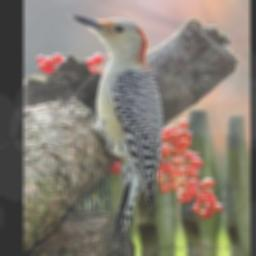Woodpecker: (63, 8, 163, 255)
